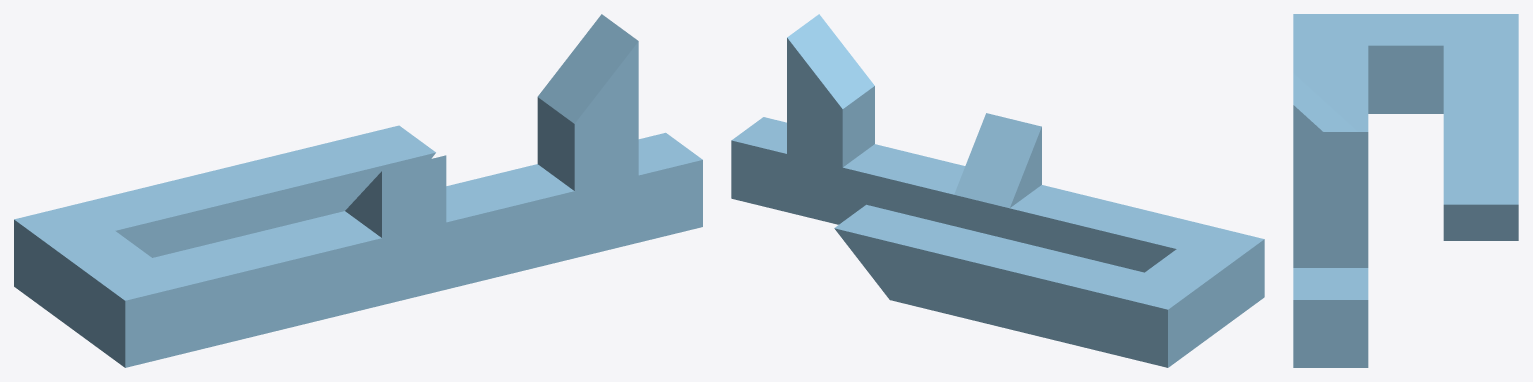
File: Impossible thing.dae
The picture shows the model from 3 angles, left to right: view 1: azimuth 30°, elevation 25°; view 2: azimuth 150°, elevation 25°; view 3: azimuth 270°, elevation 25°; orthographic projection. The views are drawn at different scales.
Visible parts, largest first — view 1: 5bf5a9c0a8e4a315f410211c; view 2: 5bf5a9c0a8e4a315f410211c; view 3: 5bf5a9c0a8e4a315f410211c.
Part boxes in pixels (bbox=[...]): 5bf5a9c0a8e4a315f410211c: bbox=[14, 14, 702, 367]; 5bf5a9c0a8e4a315f410211c: bbox=[731, 14, 1264, 367]; 5bf5a9c0a8e4a315f410211c: bbox=[1293, 14, 1518, 367].
Bounding box in the file's own units: 0.09 × 0.03 × 0.03.
